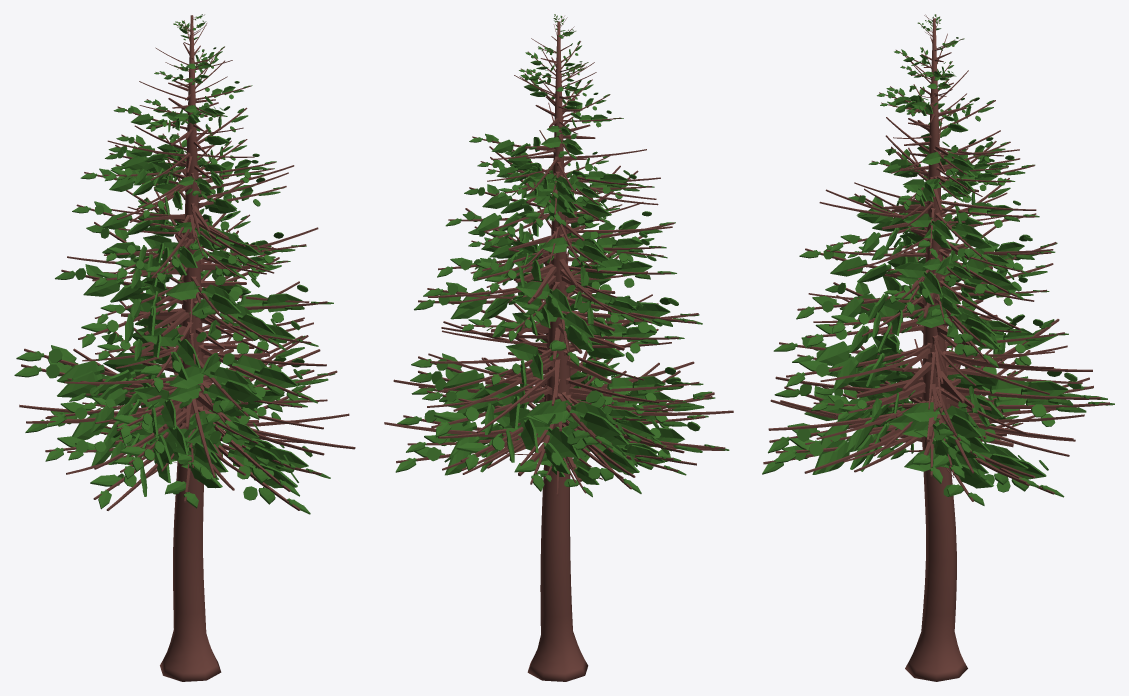
Rendered from tree1.fbx.
The picture shows the model from 3 angles, left to right: view 1: azimuth 30°, elevation 25°; view 2: azimuth 150°, elevation 25°; view 3: azimuth 270°, elevation 25°; orthographic projection.
Parts seen in each view (by area): view 1: tree1, tree1|branch2|Dupli|407, tree1|branch2|Dupli|431, tree1|branch2|Dupli|119, tree1|branch2|Dupli|410, tree1|branch2|Dupli|74, tree1|branch2|Dupli|68, tree1|branch2|Dupli|404, tree1|branch2|Dupli|386, tree1|branch2|Dupli|101, tree1|branch2|Dupli|95, tree1|branch2|Dupli|113 (+36 smaller); view 2: tree1, tree1|branch2|Dupli|338, tree1|branch2|Dupli|74, tree1|branch2|Dupli|71, tree1|branch2|Dupli|341, tree1|branch2|Dupli|386, tree1|branch2|Dupli|359, tree1|branch2|Dupli|68, tree1|branch2|Dupli|392, tree1|branch2|Dupli|479, tree1|branch2|Dupli|101, tree1|branch2|Dupli|347 (+35 smaller); view 3: tree1, tree1|branch2|Dupli|338, tree1|branch2|Dupli|431, tree1|branch2|Dupli|134, tree1|branch2|Dupli|407, tree1|branch2|Dupli|119, tree1|branch2|Dupli|146, tree1|branch2|Dupli|341, tree1|branch2|Dupli|428, tree1|branch2|Dupli|404, tree1|branch2|Dupli|419, tree1|branch2|Dupli|128 (+31 smaller).
Part boxes in pixels (left/top/right/bottom): tree1: left=160, top=15, right=221, bottom=681; tree1|branch2|Dupli|407: left=169, top=353, right=262, bottom=419; tree1|branch2|Dupli|431: left=198, top=342, right=317, bottom=403; tree1|branch2|Dupli|119: left=186, top=406, right=299, bottom=496; tree1|branch2|Dupli|410: left=140, top=321, right=206, bottom=392; tree1|branch2|Dupli|74: left=16, top=345, right=173, bottom=393; tree1|branch2|Dupli|68: left=14, top=358, right=169, bottom=404; tree1|branch2|Dupli|404: left=165, top=276, right=241, bottom=324; tree1|branch2|Dupli|386: left=78, top=293, right=186, bottom=347; tree1|branch2|Dupli|101: left=113, top=386, right=192, bottom=438; tree1|branch2|Dupli|95: left=120, top=415, right=197, bottom=471; tree1|branch2|Dupli|113: left=142, top=429, right=228, bottom=508; tree1: left=527, top=21, right=588, bottom=681; tree1|branch2|Dupli|338: left=431, top=383, right=552, bottom=437; tree1|branch2|Dupli|74: left=524, top=390, right=622, bottom=448; tree1|branch2|Dupli|71: left=504, top=417, right=579, bottom=491; tree1|branch2|Dupli|341: left=456, top=408, right=556, bottom=470; tree1|branch2|Dupli|386: left=567, top=284, right=702, bottom=333; tree1|branch2|Dupli|359: left=523, top=302, right=594, bottom=366; tree1|branch2|Dupli|68: left=530, top=396, right=629, bottom=458; tree1|branch2|Dupli|392: left=567, top=255, right=676, bottom=287; tree1|branch2|Dupli|479: left=485, top=343, right=558, bottom=385; tree1|branch2|Dupli|101: left=570, top=367, right=703, bottom=402; tree1|branch2|Dupli|347: left=516, top=281, right=575, bottom=321; tree1: left=905, top=18, right=967, bottom=681; tree1|branch2|Dupli|338: left=944, top=366, right=1107, bottom=417; tree1|branch2|Dupli|431: left=786, top=336, right=924, bottom=390; tree1|branch2|Dupli|134: left=902, top=397, right=981, bottom=446; tree1|branch2|Dupli|407: left=773, top=335, right=920, bottom=367; tree1|branch2|Dupli|119: left=768, top=394, right=895, bottom=454; tree1|branch2|Dupli|146: left=904, top=447, right=993, bottom=505; tree1|branch2|Dupli|341: left=946, top=380, right=1114, bottom=426; tree1|branch2|Dupli|428: left=796, top=276, right=918, bottom=323; tree1|branch2|Dupli|404: left=799, top=245, right=907, bottom=282; tree1|branch2|Dupli|419: left=829, top=298, right=925, bottom=337; tree1|branch2|Dupli|128: left=775, top=422, right=925, bottom=471.
Size of what is drawn, in the model's own units: 2856 by 6107 by 2990.
